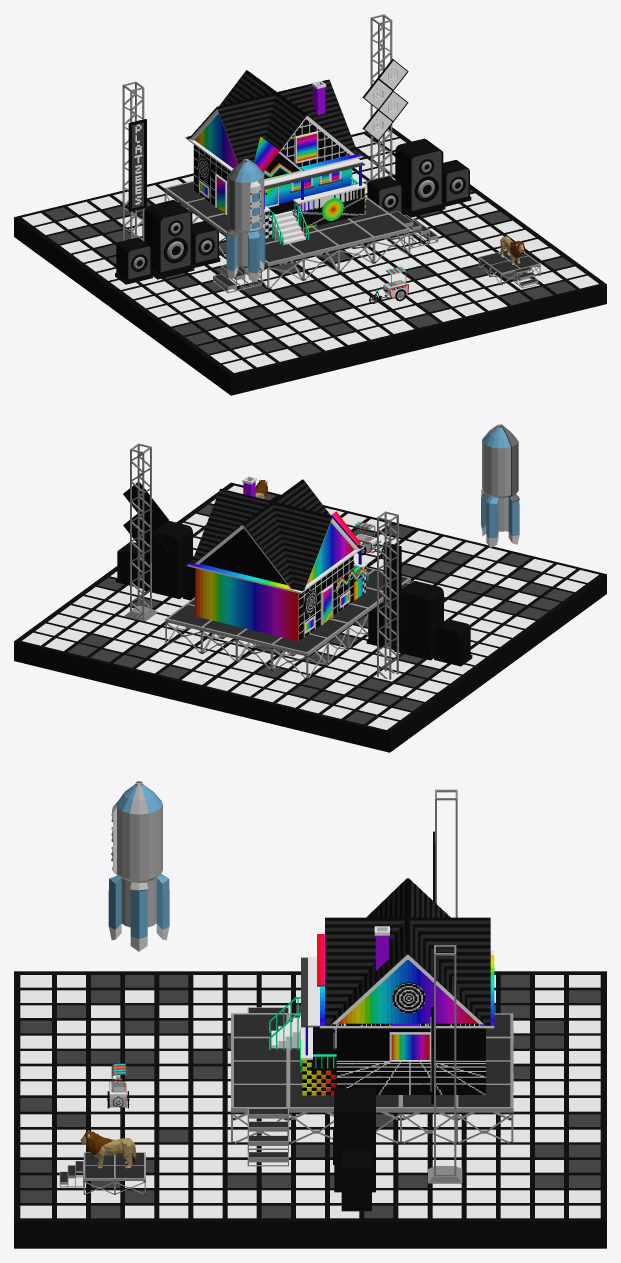
3 views of the same model, one above another, from view 1: azimuth 30°, elevation 25°; view 2: azimuth 150°, elevation 25°; view 3: azimuth 270°, elevation 25° (orthographic). The views are drawn at different scales.
Visible parts, largest first — view 1: Cube.008, Cube.1320, OBJRANDOM_ROCKETSHIP, VEHICLES_SNOWBAL_BIKE; view 2: Cube.008, Cube.1320, OBJRANDOM_ROCKETSHIP, VEHICLES_SNOWBAL_BIKE; view 3: Cube.008, Cube.1320, OBJRANDOM_ROCKETSHIP, ANIMAL_LEON, VEHICLES_SNOWBAL_BIKE.
Boxes of the visible parts, box(x1,y1,x2,y2) form: Cube.008: box(14, 14, 606, 395); Cube.1320: box(185, 70, 367, 245); OBJRANDOM_ROCKETSHIP: box(226, 159, 265, 282); VEHICLES_SNOWBAL_BIKE: box(369, 266, 408, 303); Cube.008: box(14, 443, 606, 752); Cube.1320: box(187, 476, 368, 641); OBJRANDOM_ROCKETSHIP: box(481, 424, 519, 547); VEHICLES_SNOWBAL_BIKE: box(355, 522, 383, 556); Cube.008: box(14, 789, 606, 1248); Cube.1320: box(269, 878, 494, 1095); OBJRANDOM_ROCKETSHIP: box(108, 781, 169, 951); ANIMAL_LEON: box(80, 1130, 136, 1169); VEHICLES_SNOWBAL_BIKE: box(107, 1063, 129, 1108).
Bounding box in the file's own units: 4000 × 1984 × 4000.
Materials: 41 (3 with a texture image).
